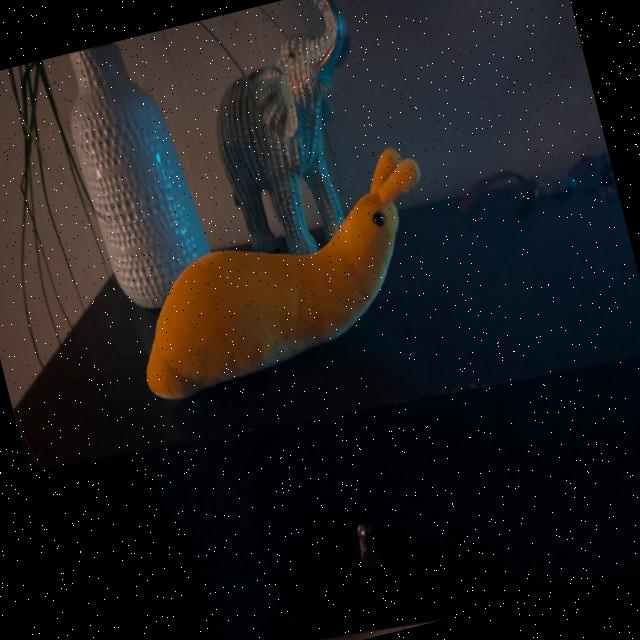banana-slug-toy: (96, 132, 467, 416)
